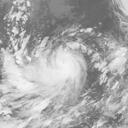cyclone: (35, 41, 85, 102)
